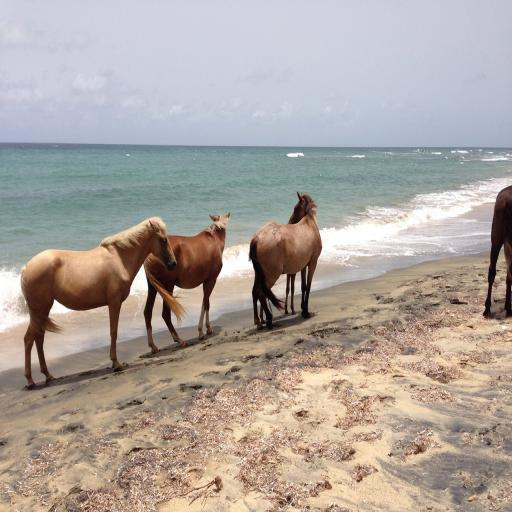horse: (16, 216, 178, 386), (143, 212, 228, 355), (248, 191, 324, 333), (486, 186, 512, 318)
